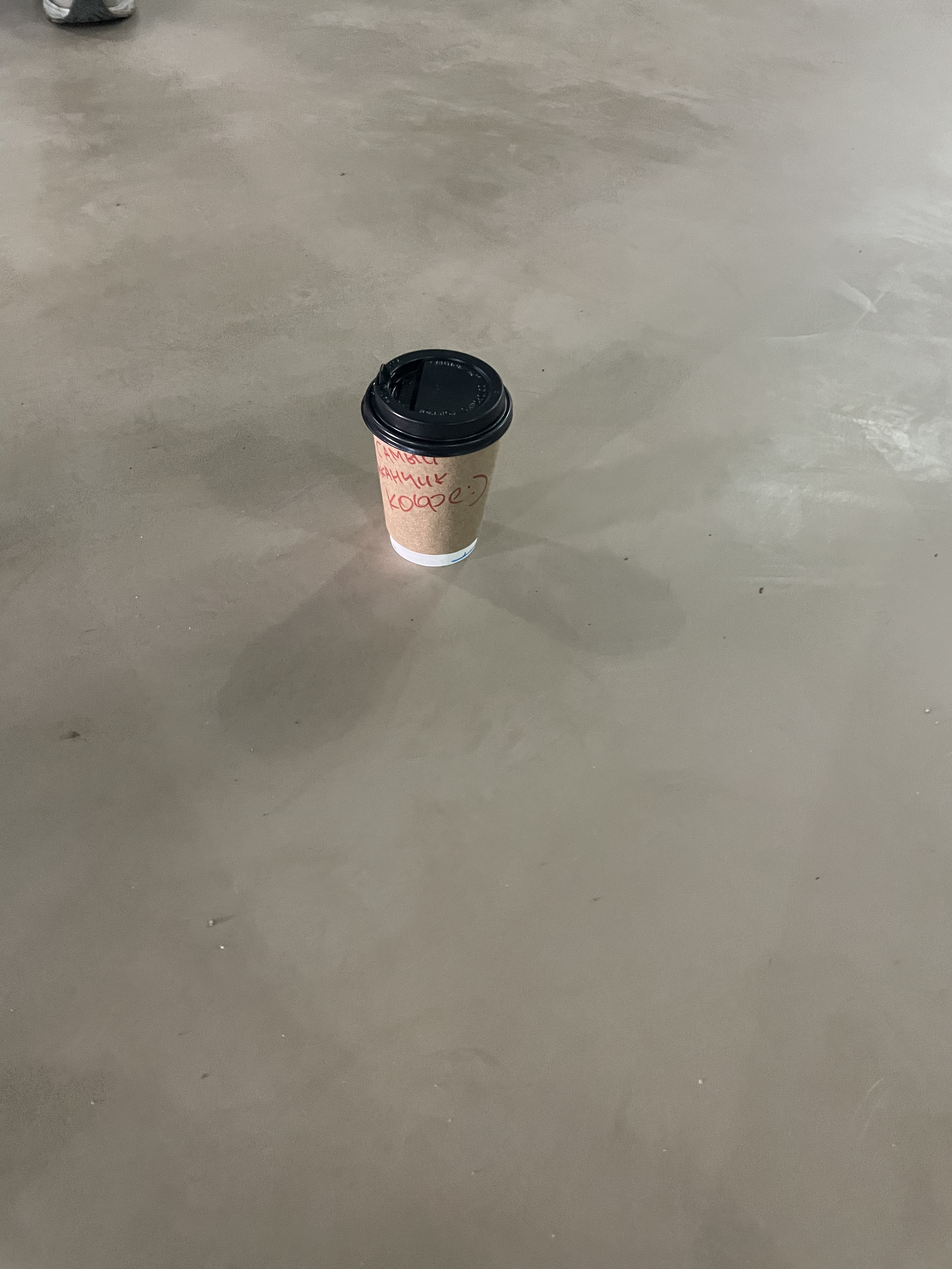cup: (361, 349, 514, 567)
